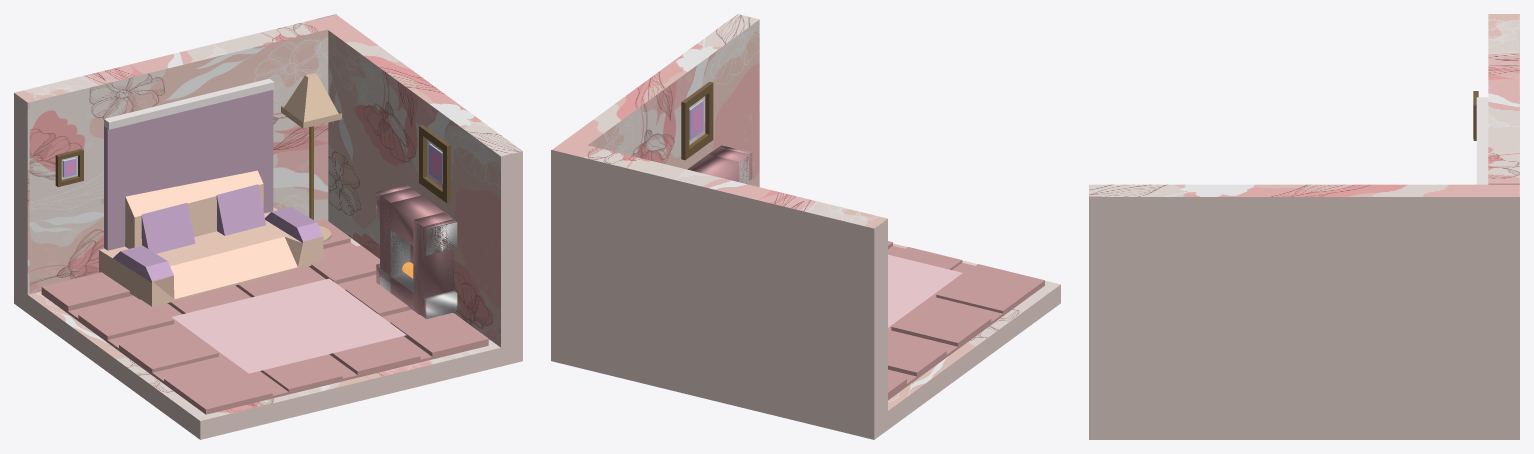
The model's file is kamarcewe.glb.
3 renders of one model, left to right at view 1: azimuth 30°, elevation 25°; view 2: azimuth 150°, elevation 25°; view 3: azimuth 270°, elevation 25°, orthographic. The views are drawn at different scales.
Visible parts, largest first — view 1: Plane, Cube.006, Cube.002, Plane.002, Cube.003, Cube.001, Cube.004, Cube.005; view 2: Plane, Cube.006, Plane.002, Cube.004, Cube.003; view 3: Plane.
Part boxes in pixels (x1=…): Plane: x1=14, y1=14, x2=522, y2=439; Cube.006: x1=41, y1=219, x2=488, y2=414; Cube.002: x1=99, y1=170, x2=323, y2=306; Plane.002: x1=172, y1=278, x2=406, y2=373; Cube.003: x1=376, y1=185, x2=457, y2=318; Cube.001: x1=281, y1=73, x2=341, y2=242; Cube.004: x1=419, y1=125, x2=450, y2=203; Cube.005: x1=55, y1=148, x2=83, y2=186; Plane: x1=551, y1=14, x2=1060, y2=439; Cube.006: x1=888, y1=241, x2=1044, y2=400; Plane.002: x1=888, y1=254, x2=962, y2=327; Cube.004: x1=681, y1=81, x2=713, y2=160; Cube.003: x1=687, y1=144, x2=752, y2=184; Plane: x1=1089, y1=14, x2=1519, y2=439.
Bounding box in the file's own units: 2 × 1.25 × 2.
Materials: 21 (1 with a texture image).
